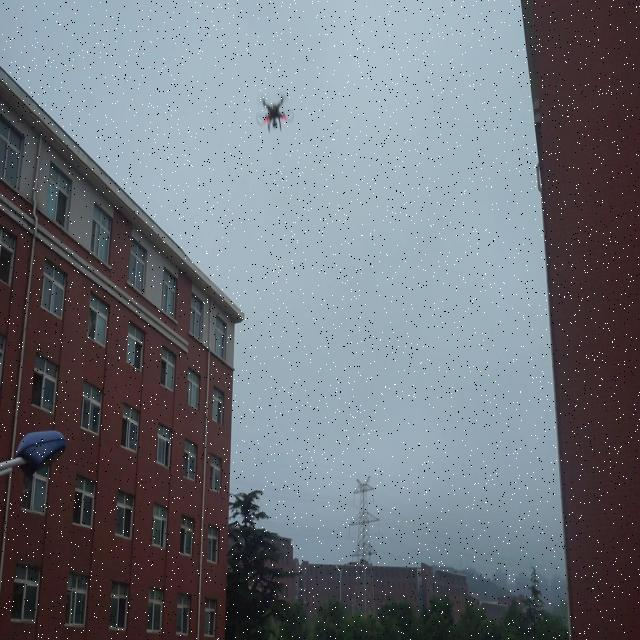UAV: (256, 95, 294, 133)
